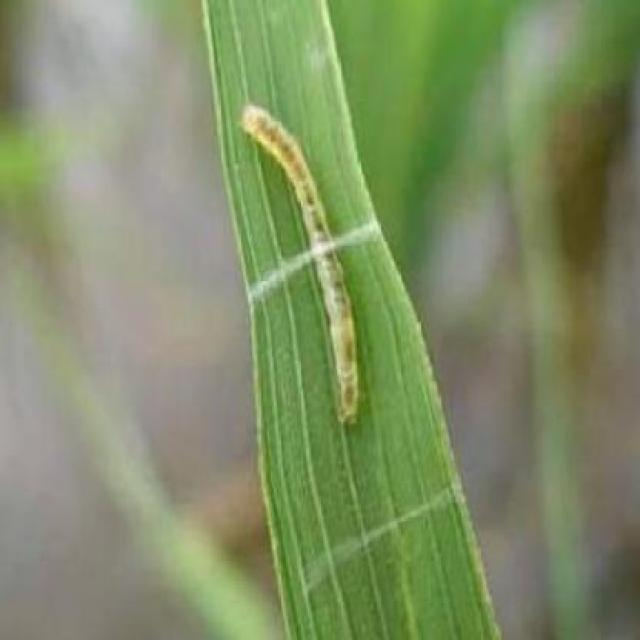leaf-folder: (228, 86, 397, 448)
